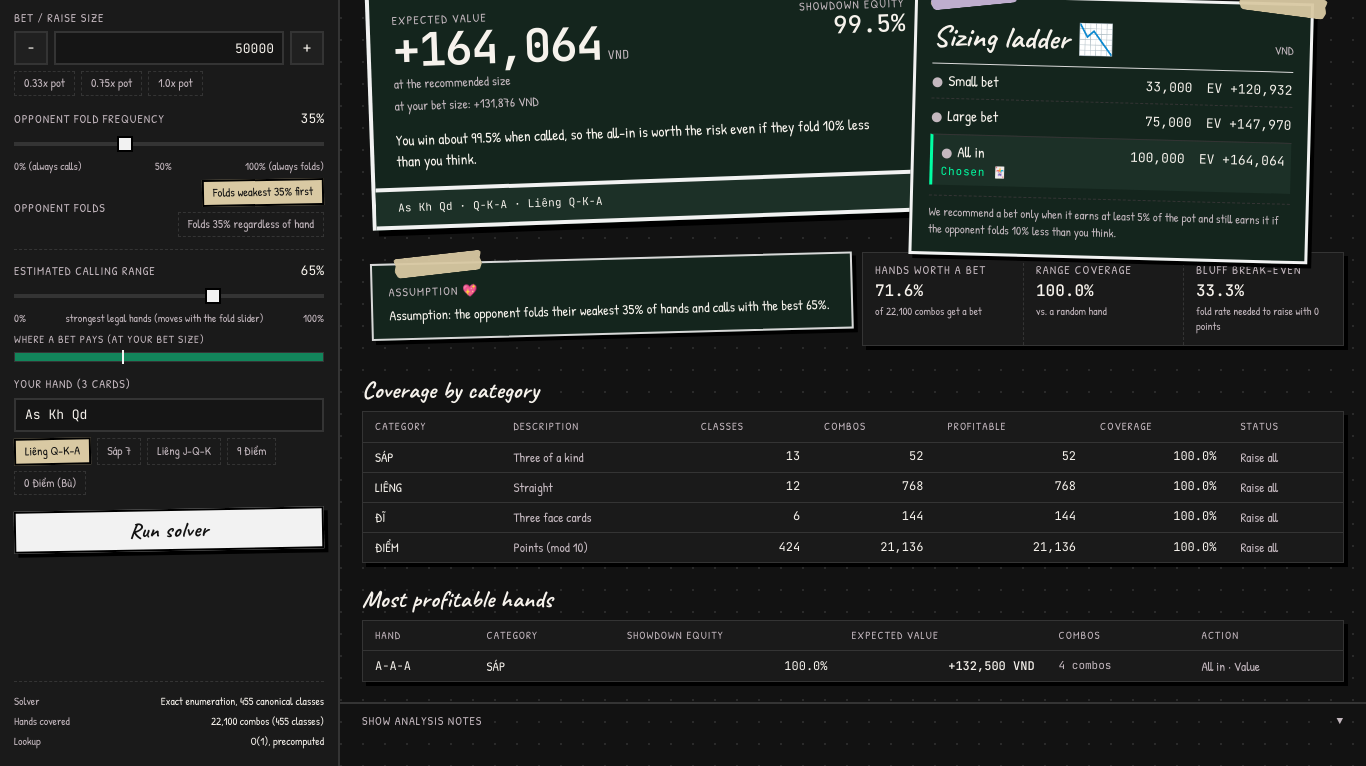
App › the notes show the model the API reports
The width and height of the screenshot is (1366, 766).
(page scrolled)
Click the button "Show analysis notes ▼": (422, 721) [362,704,1344,738]
(page scrolled)
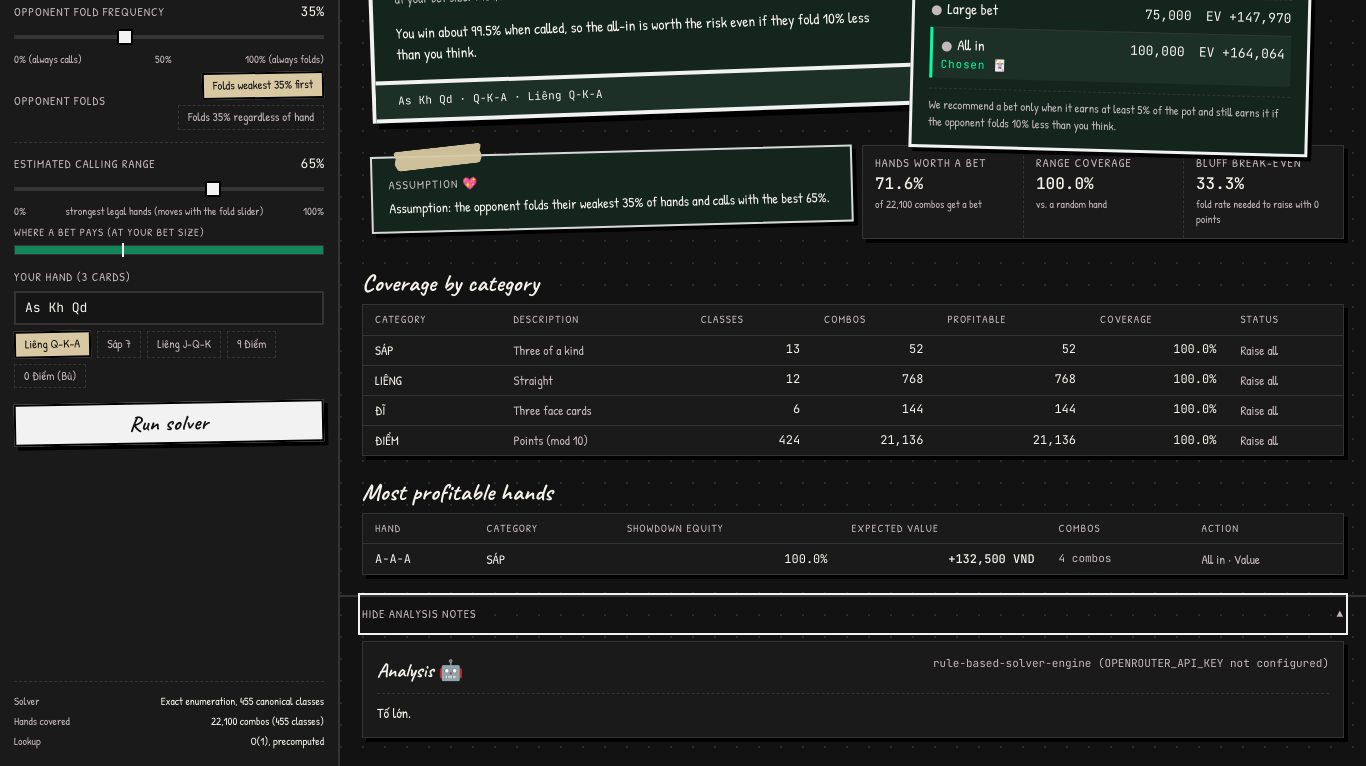
Expected: the text "rule-based-solver-engine (OPENROUTER_API_KEY not configured)" is shown, [933,656,1329,670]
Expected: the text "Tố lớn." is shown, [377,703,411,722]
